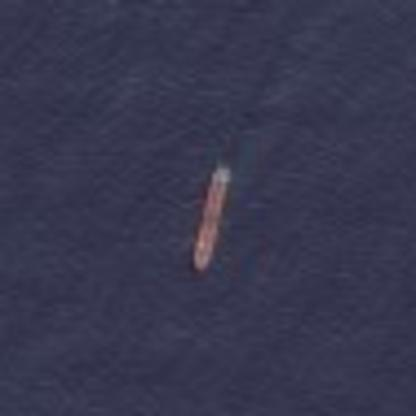ship: (179, 151, 239, 280)
